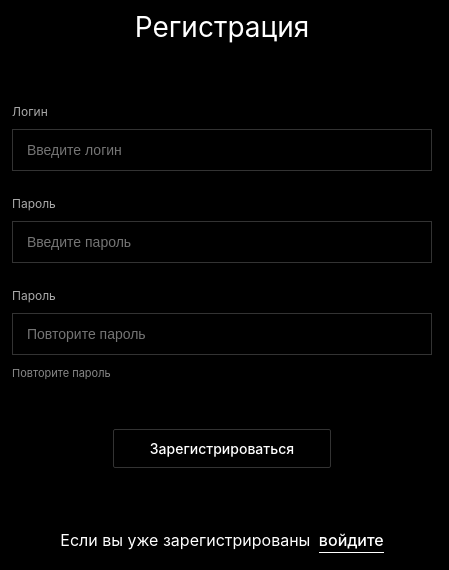
Test: валидация RegisterPage › показывает ошибку, если пароли не совпадают
Type "valid_user" into the field with placeholder "Введите логин" at (222, 150), box [12, 129, 432, 171]
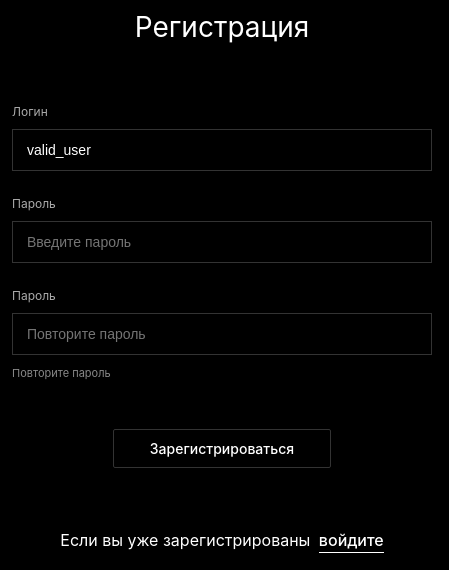
Type "Password1" into the password field with placeholder "Введите пароль" at (222, 242), box [12, 221, 432, 263]
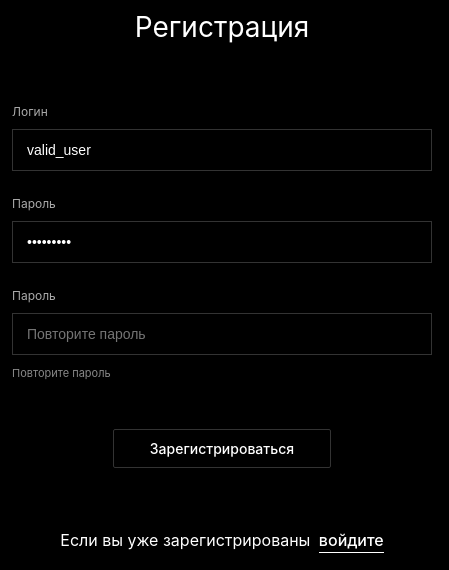
Type "Password2" into the password field with placeholder "Повторите пароль" at (222, 334), box [12, 313, 432, 355]
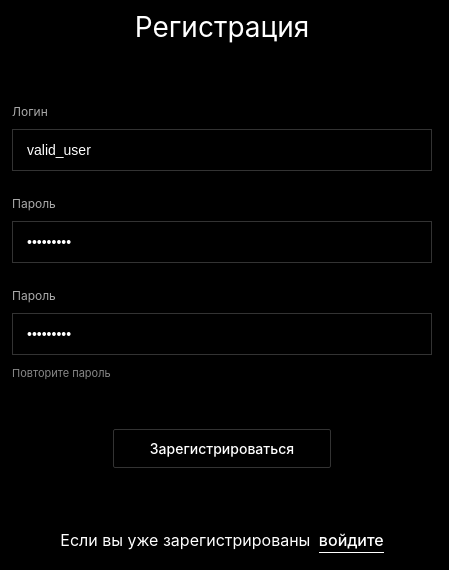
Click the button "Зарегистрироваться" at (222, 449), box [113, 429, 331, 468]
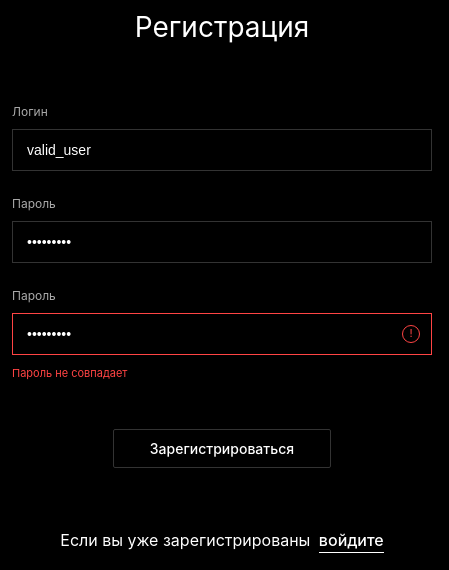
expect the text "Пароль не совпадает" is shown: met, box [12, 366, 127, 380]
